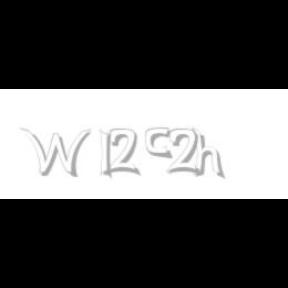2: (105, 128, 139, 176), (166, 128, 200, 176)
I: (100, 128, 112, 180)
W: (19, 128, 91, 178)
c: (146, 128, 174, 160)
h: (192, 128, 226, 180)
